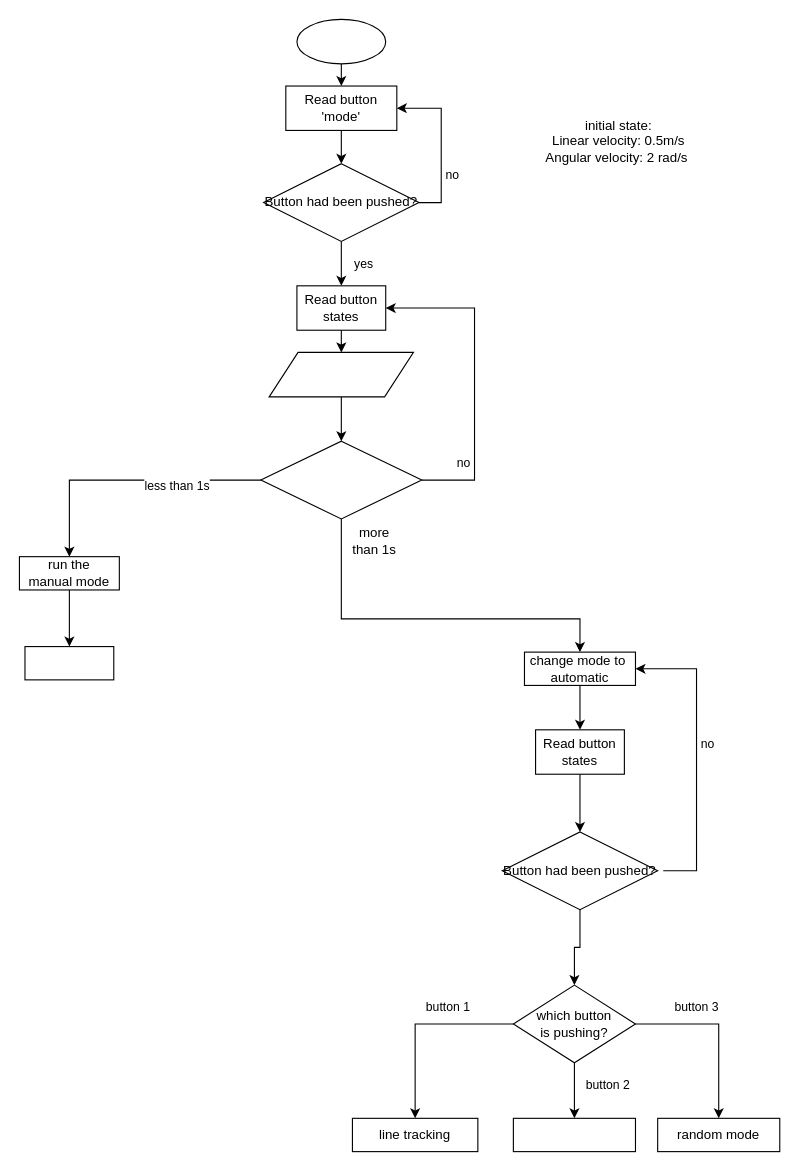
This 799x1171 diagram has some shape labels left out. The shapes that lost their labels are listed below. From the top down, each one's centre as x and y in pixels, then its label:
the point at 341,41: Begin
the point at 340,374: mode = ?
the point at 341,479: how button 'mode' is pushed?
the point at 69,662: maual mode
the point at 573,1134: go to station
